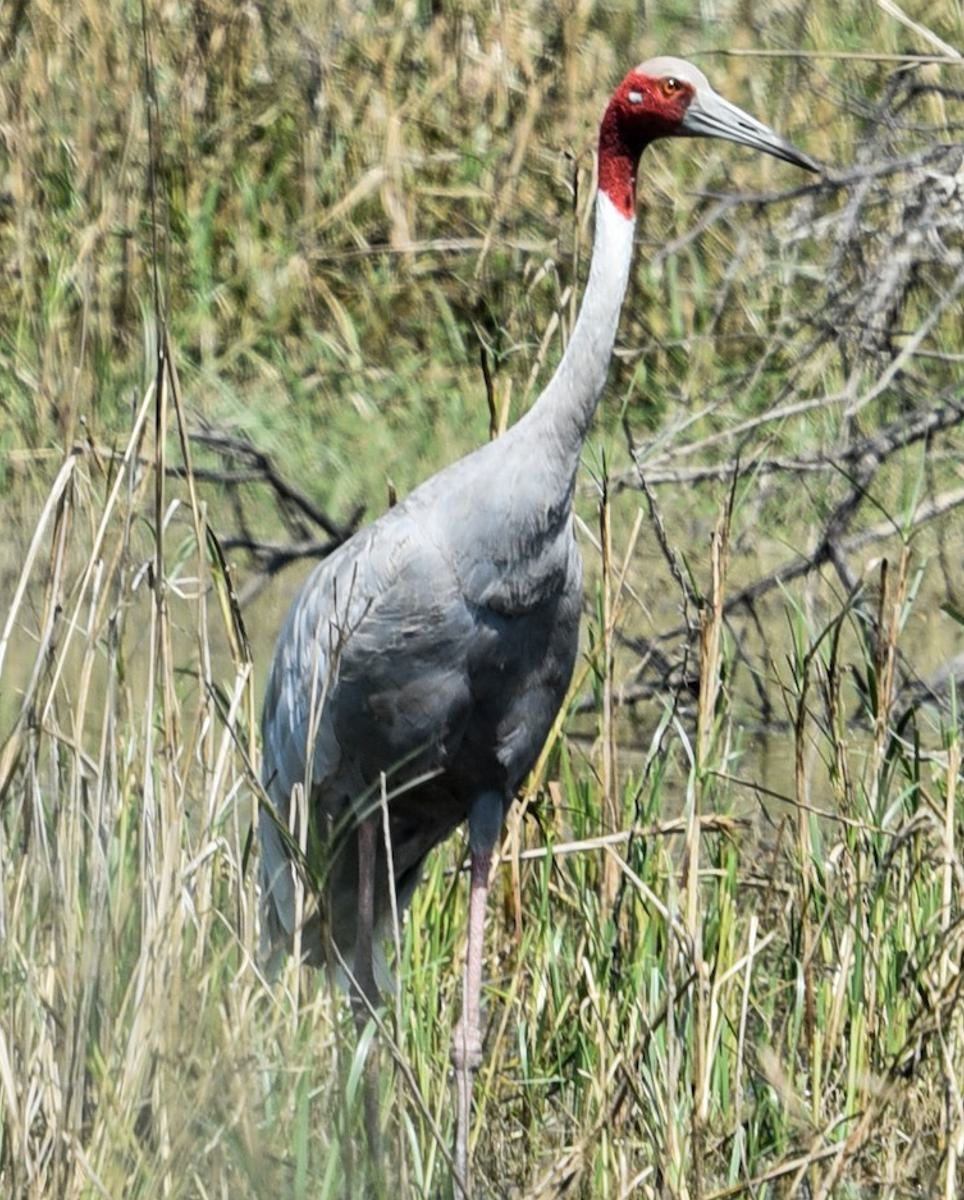crane: (253, 59, 824, 1050)
